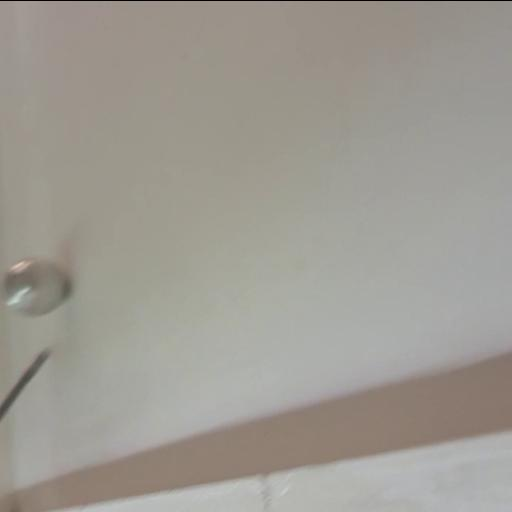alive: (2, 255, 72, 318)
